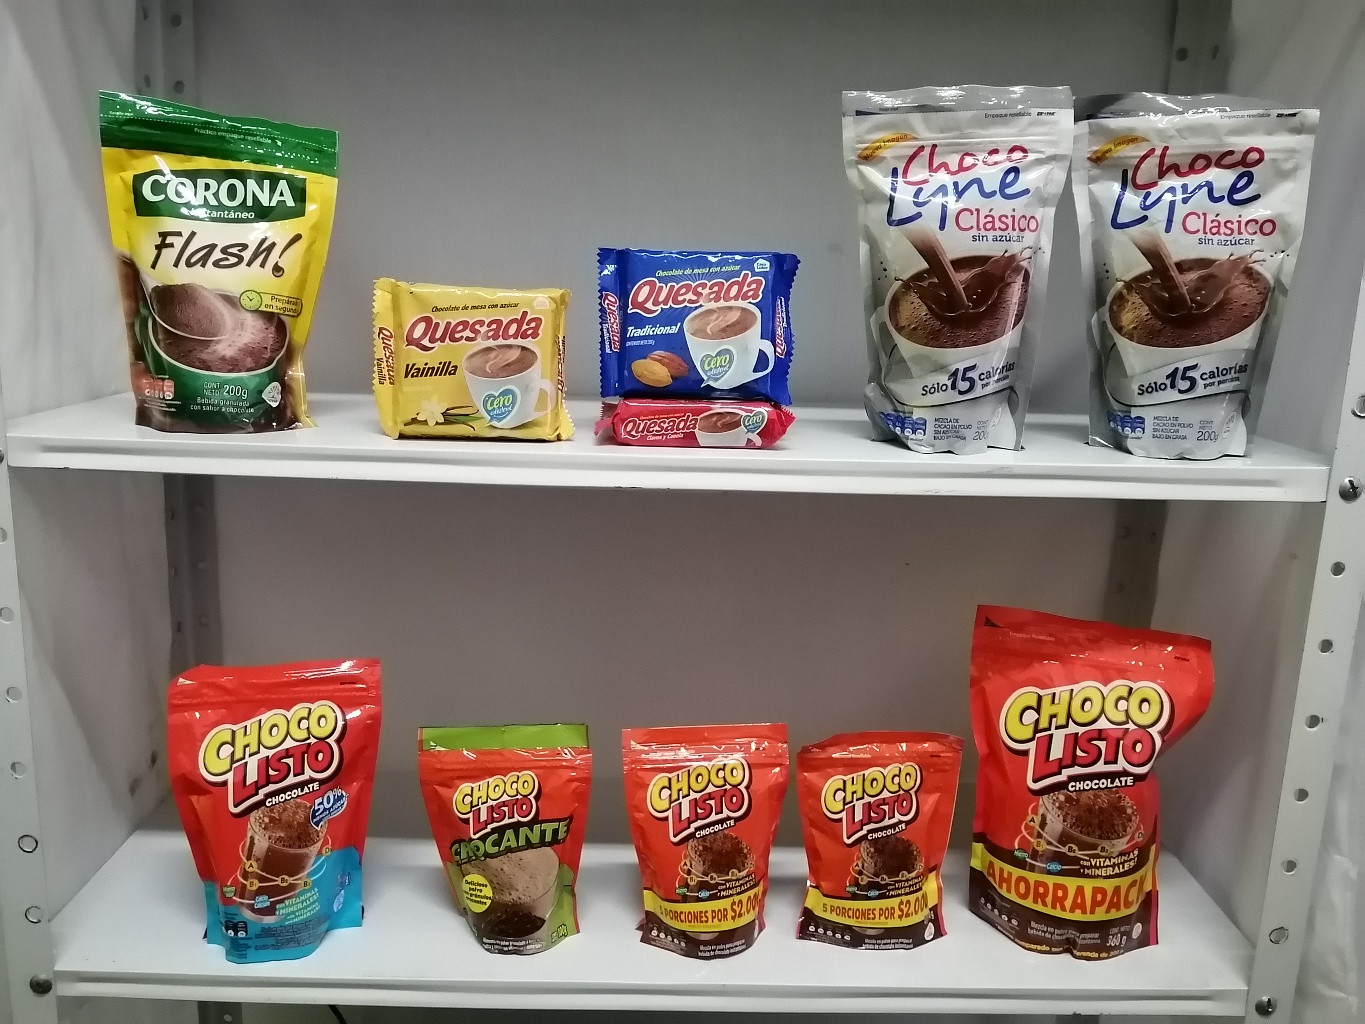COL0170102DYP10000: (409, 707, 615, 964)
COL0170103DYP36000: (962, 593, 1228, 973)
COL0170104DYP20000: (144, 646, 399, 979)
